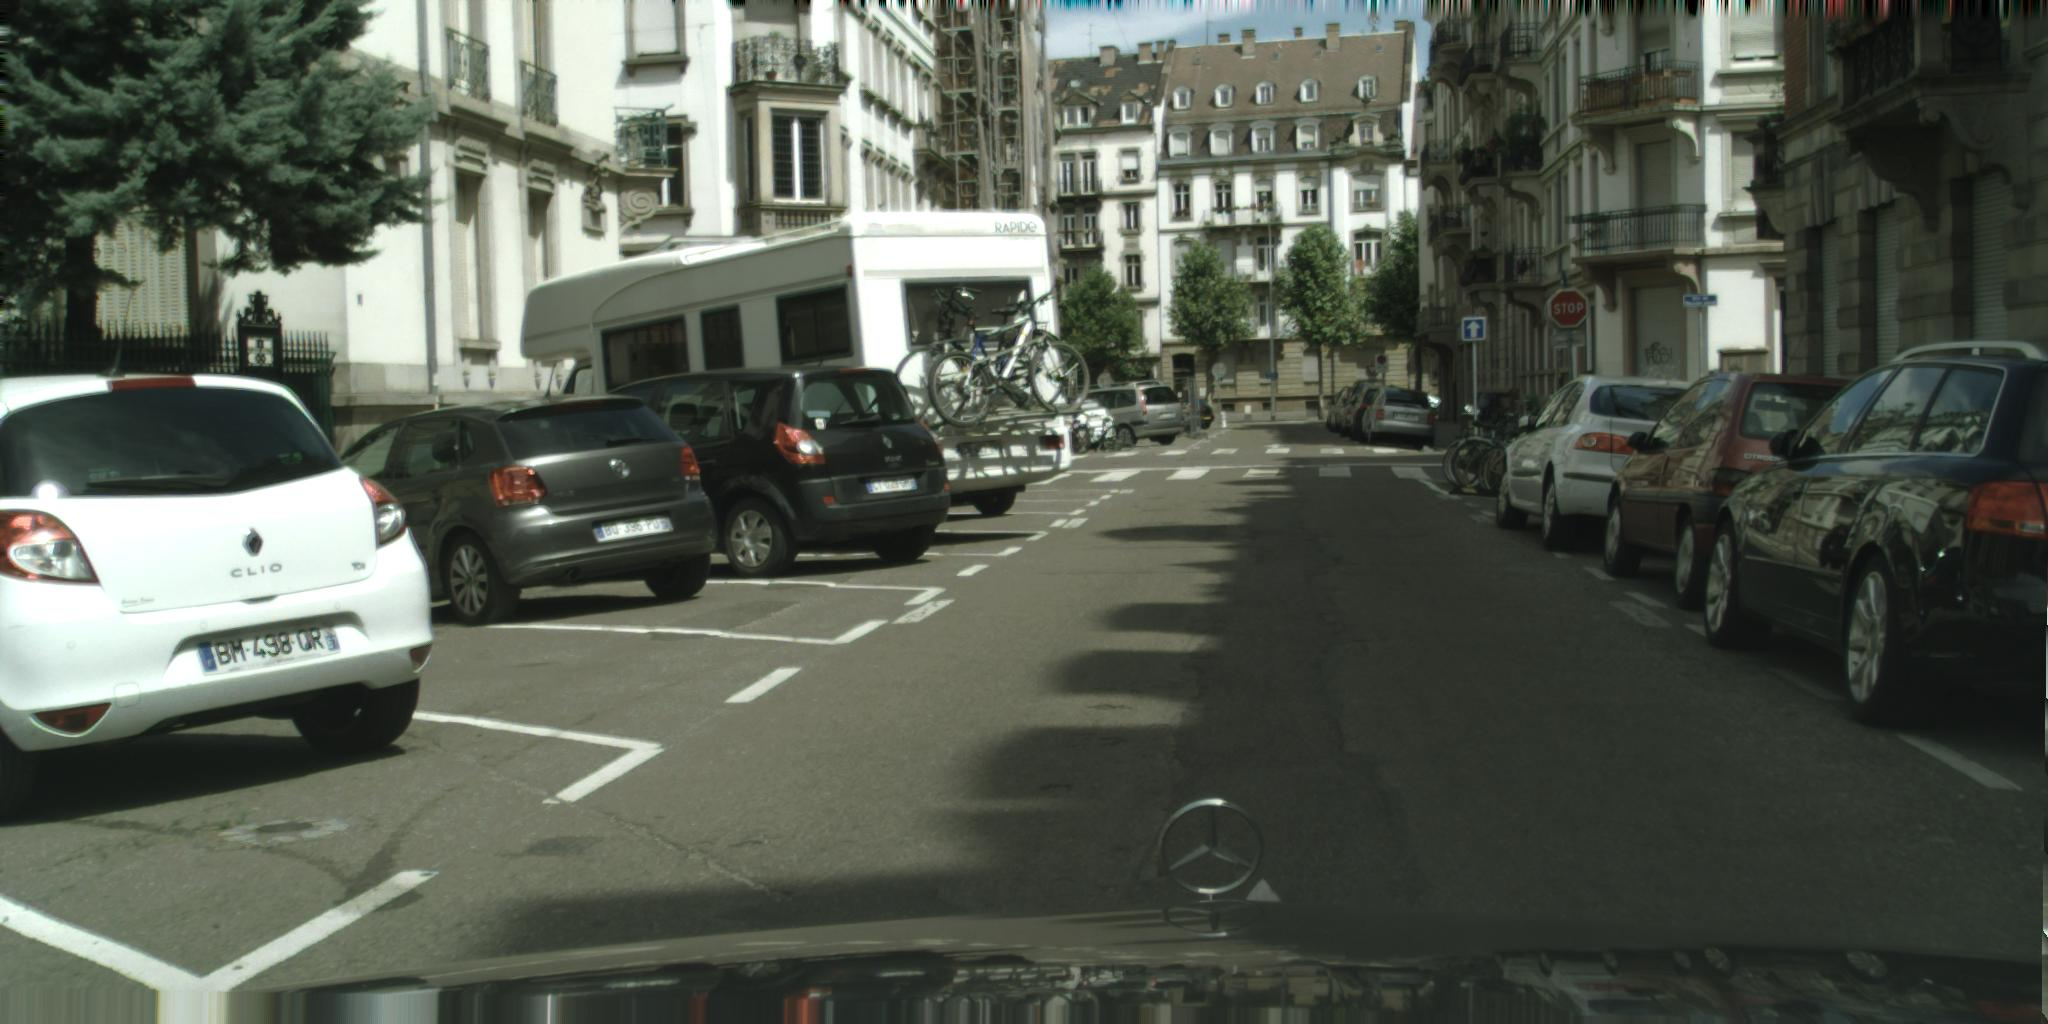bicycle: (1067, 414, 1126, 455)
car: (1, 374, 436, 829), (1704, 341, 2048, 729), (289, 394, 718, 627), (560, 366, 951, 579), (1605, 372, 1876, 613), (1497, 376, 1716, 551), (1072, 381, 1183, 449), (1361, 388, 1435, 452), (1064, 400, 1117, 451), (1341, 384, 1384, 439), (1351, 387, 1394, 441), (1327, 387, 1364, 434), (1189, 400, 1215, 428), (1420, 394, 1442, 424)
